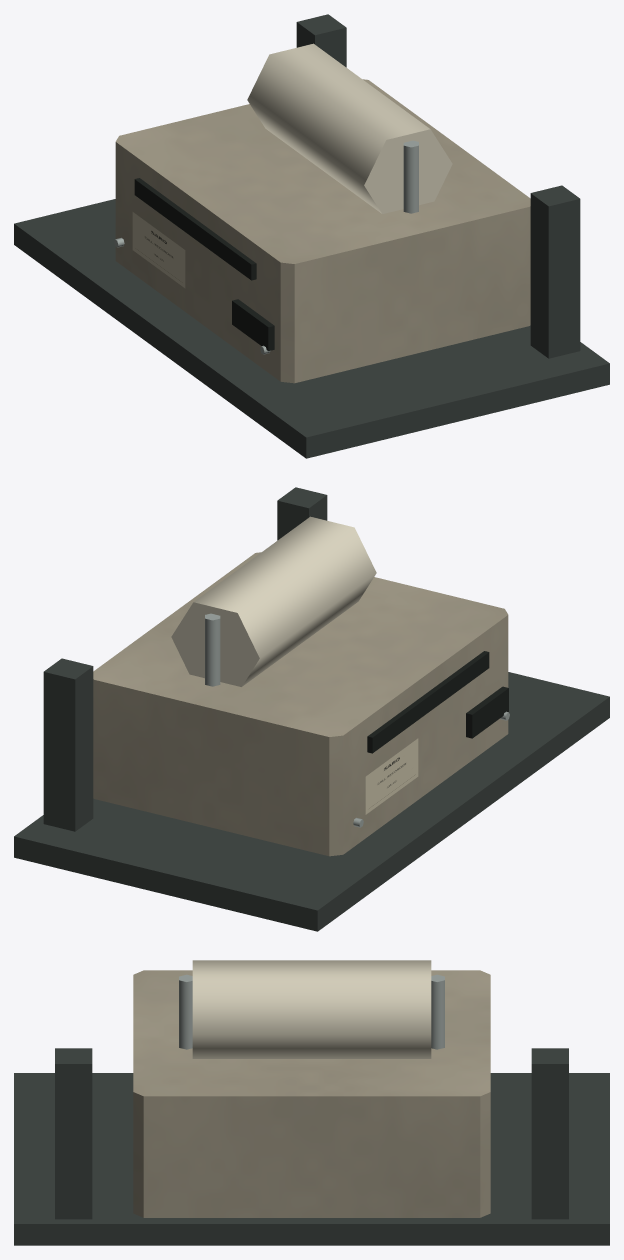
The model's file is SM_ArchiveProps_CallRecorder_LOD2.glb.
3 views of the same model, one above another, from view 1: azimuth 30°, elevation 25°; view 2: azimuth 150°, elevation 25°; view 3: azimuth 270°, elevation 25° (orthographic).
Visible parts, largest first — view 1: SM_ArchiveProps_CallRecorder_LOD2; view 2: SM_ArchiveProps_CallRecorder_LOD2; view 3: SM_ArchiveProps_CallRecorder_LOD2.
Boxes of the visible parts, x1=… form: SM_ArchiveProps_CallRecorder_LOD2: x1=14, y1=14, x2=609, y2=458; SM_ArchiveProps_CallRecorder_LOD2: x1=14, y1=487, x2=609, y2=931; SM_ArchiveProps_CallRecorder_LOD2: x1=14, y1=960, x2=609, y2=1245.
Size of the model in its own units: 0.24 by 0.1613 by 0.4.
Materials: 6 (2 with a texture image).
